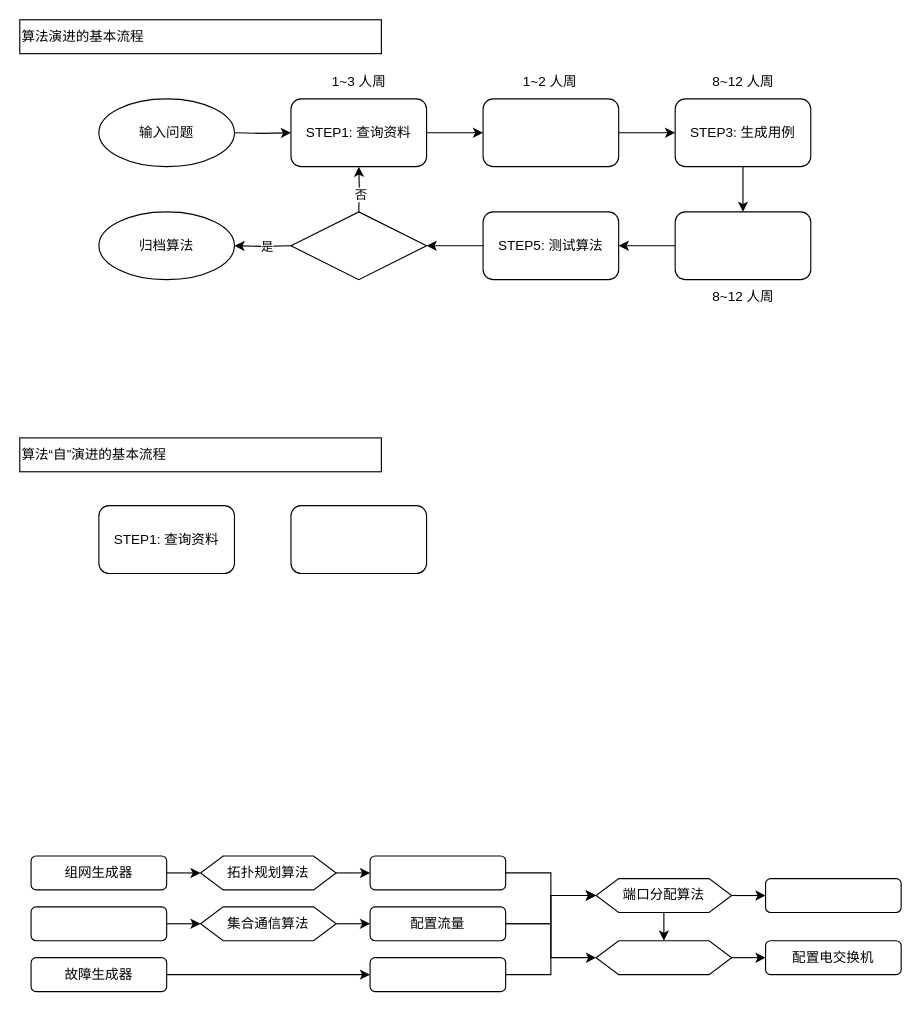
Some shapes in this 921 by 1011 pixel diagram are drawn without their labels. The centre of each missing label's shape, as x and y in pixels:
"STEP2: 建模问题" belongs at point (550, 132).
"STEP4: 生成算法" belongs at point (742, 245).
"测试通过达成目标" belongs at point (358, 245).
"路由均衡算法" belongs at point (663, 957).
"通信生成器" belongs at point (98, 923).
"配置光交换机" belongs at point (832, 894).
"配置故障" belongs at point (437, 974).
"配置组网" belongs at point (437, 872).
